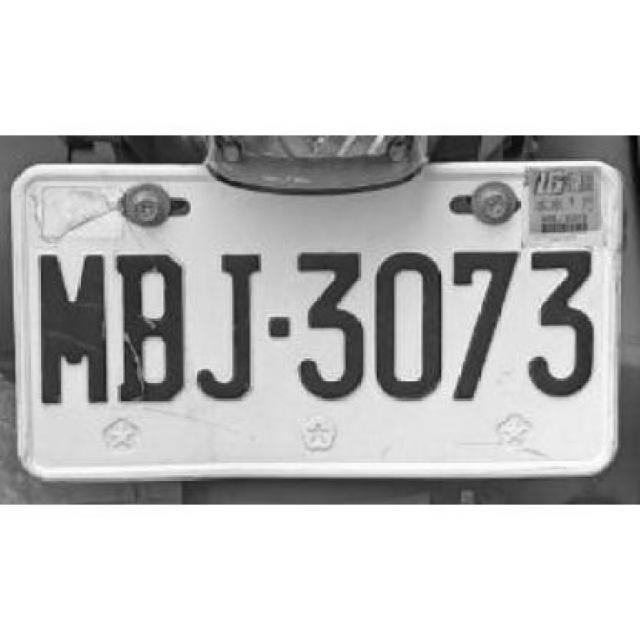-: (268, 317, 290, 340)
0: (374, 252, 441, 405)
3: (294, 253, 366, 402), (528, 251, 595, 400)
7: (452, 250, 522, 402)
B: (116, 254, 186, 406)
J: (197, 255, 261, 403)
M: (36, 254, 110, 406)
